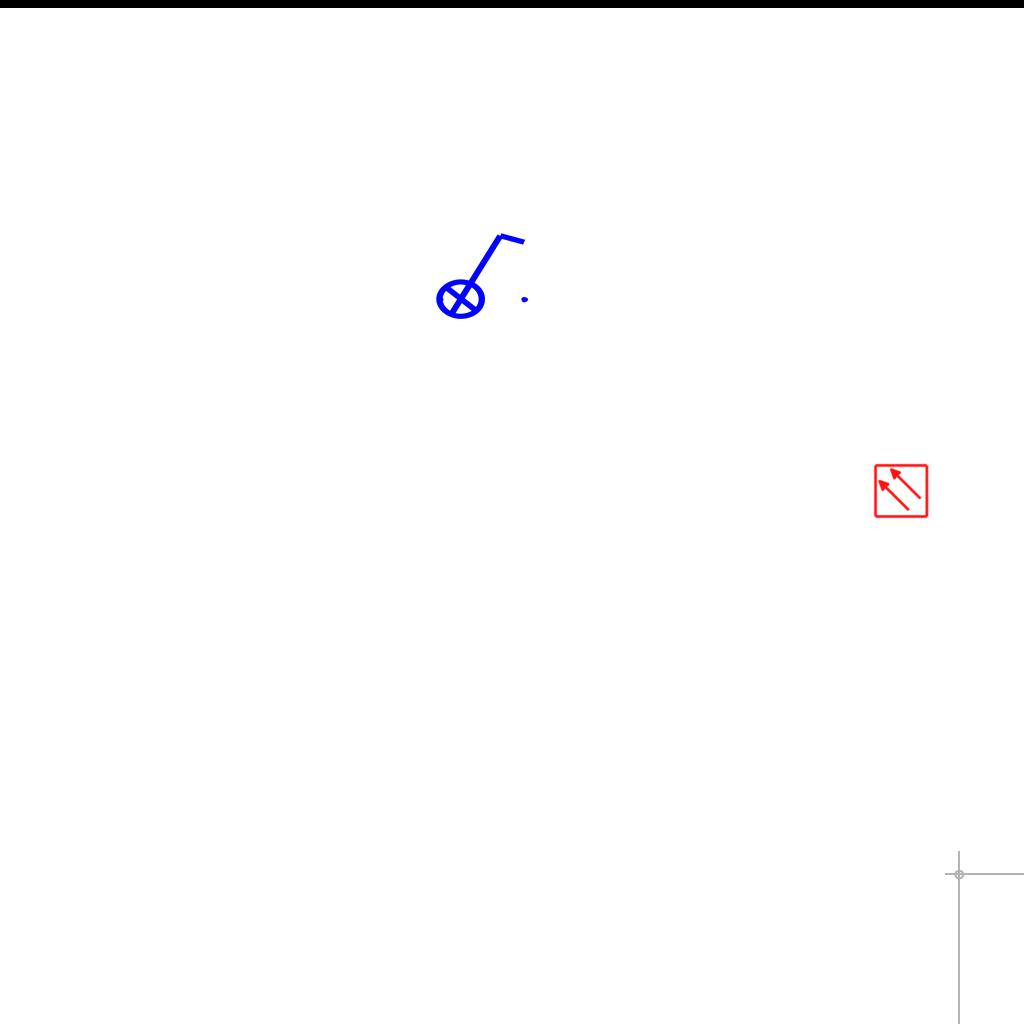Ausschalter_beleuchtet: (422, 225, 534, 321)
RMO_Rauchmelder_optischer: (873, 463, 929, 519)
